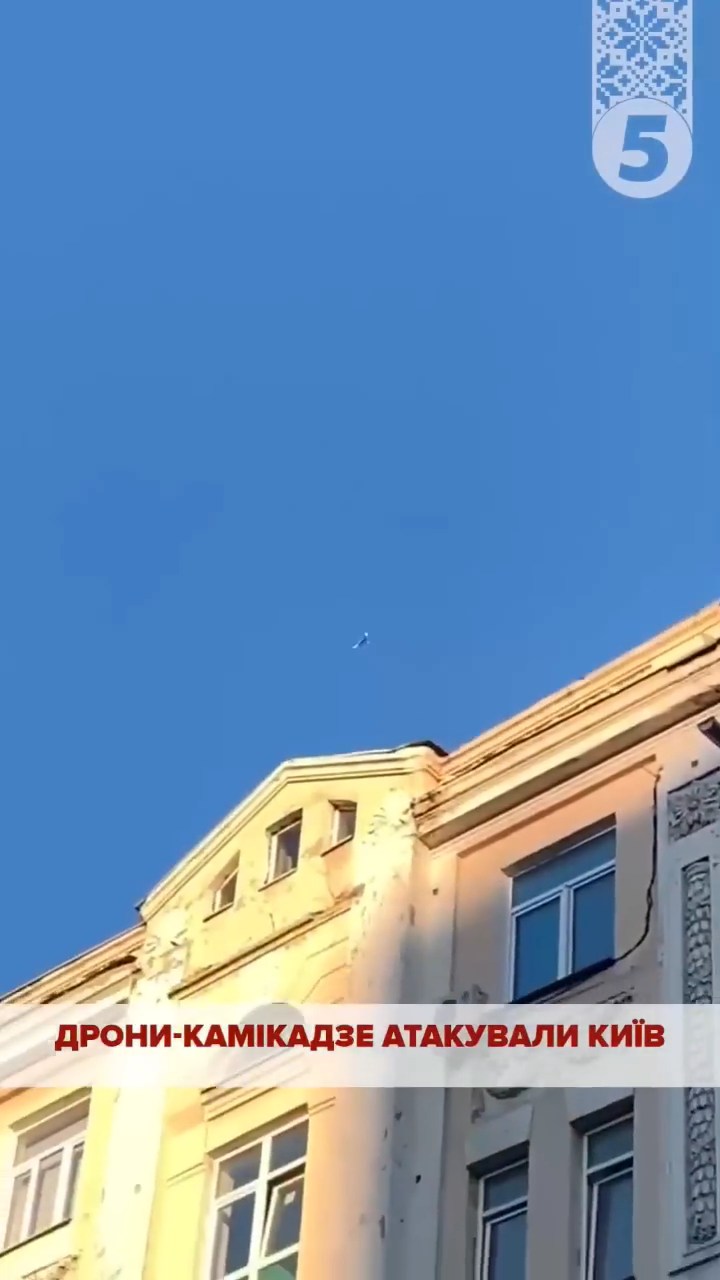shahed: (351, 630, 372, 651)
